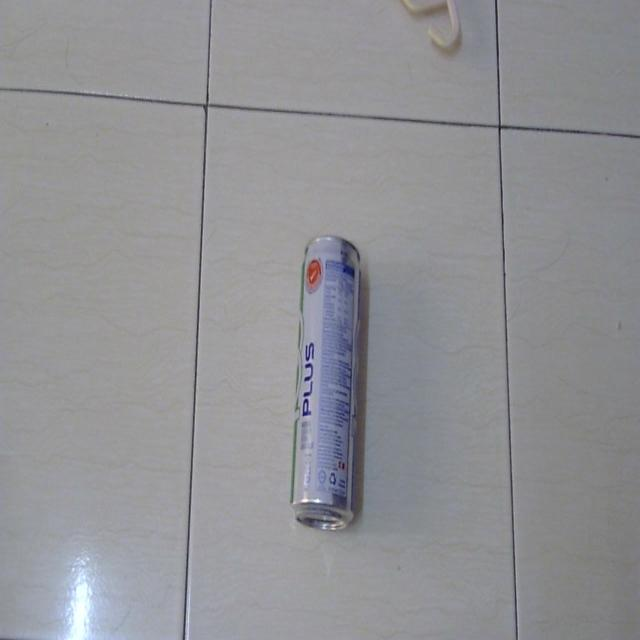metal_laydown_90rotation: (286, 224, 364, 532)
